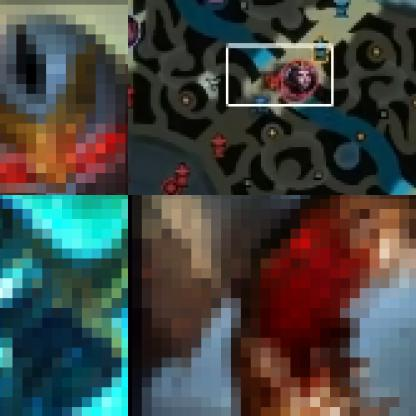Darius: (128, 12, 144, 49)
Fiddlesticks: (128, 195, 415, 415)
Hecarim: (0, 195, 127, 415)
Leblanc: (281, 60, 320, 96)
Zed: (0, 0, 127, 194)
